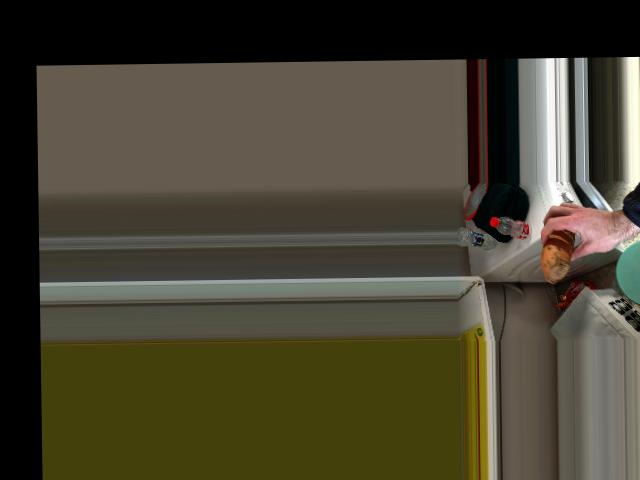sweet_potato: (538, 224, 583, 270)
